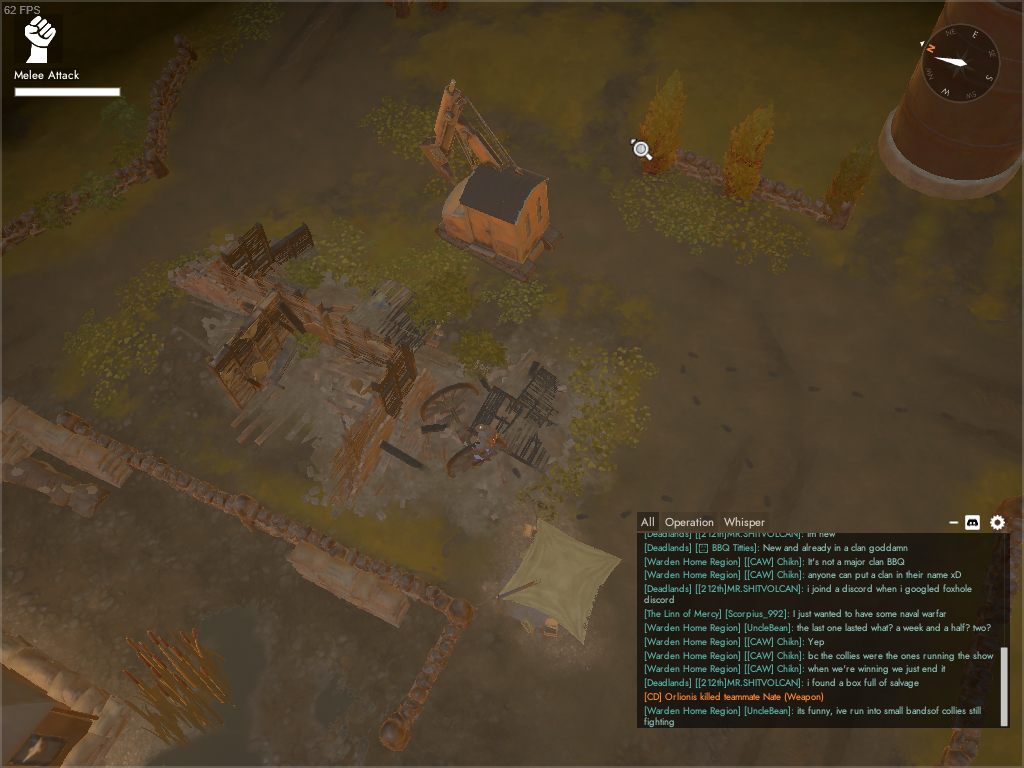foxhole: (476, 491, 631, 670)
player: (472, 422, 496, 457)
sandbag: (284, 539, 412, 628), (7, 404, 135, 489), (1, 446, 91, 520), (1, 397, 41, 476)
scv: (419, 77, 568, 288)
